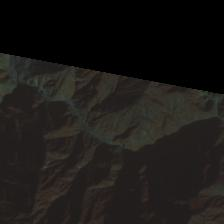landslides: (42, 160, 67, 170), (45, 163, 60, 171), (36, 100, 47, 110)
